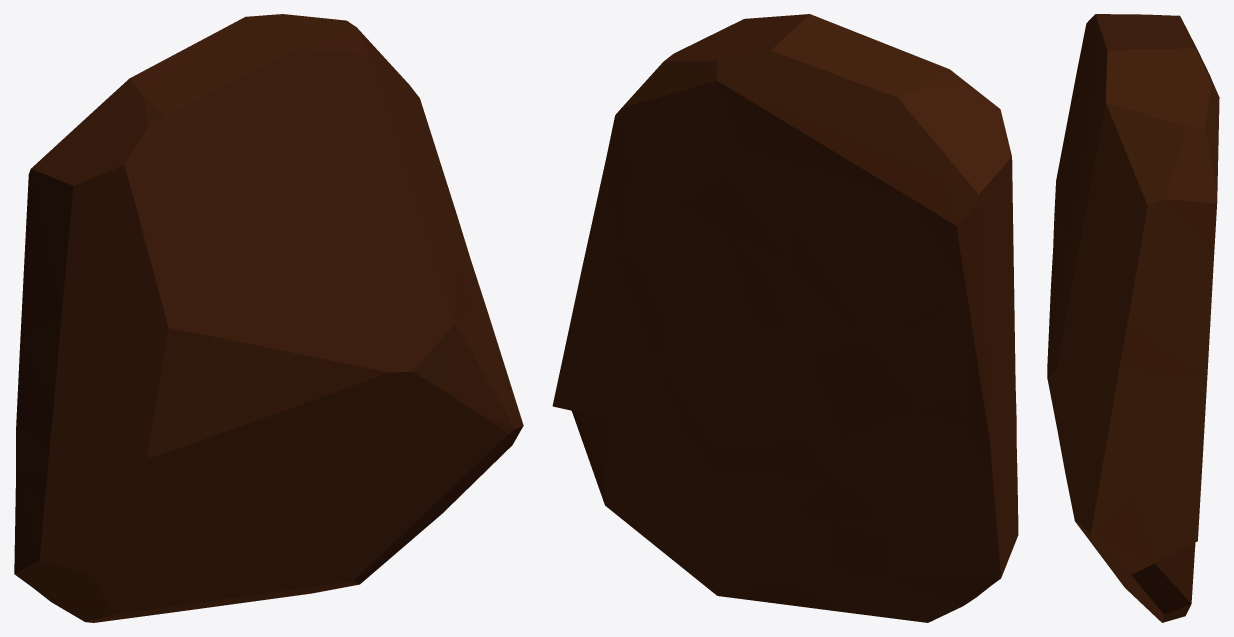
Rendered from lvlDecor_rock_001.fbx.
3 renders of one model, left to right at view 1: azimuth 30°, elevation 25°; view 2: azimuth 150°, elevation 25°; view 3: azimuth 270°, elevation 25°, orthographic. The views are drawn at different scales.
Parts seen in each view (by area): view 1: lvlDecor_rock_001; view 2: lvlDecor_rock_001; view 3: lvlDecor_rock_001.
Part boxes in pixels (<box>): lvlDecor_rock_001: <box>14,14,523,622</box>; lvlDecor_rock_001: <box>552,14,1018,622</box>; lvlDecor_rock_001: <box>1047,14,1219,622</box>.
Bounding box in the file's own units: 66.07 × 79.5 × 22.89.
